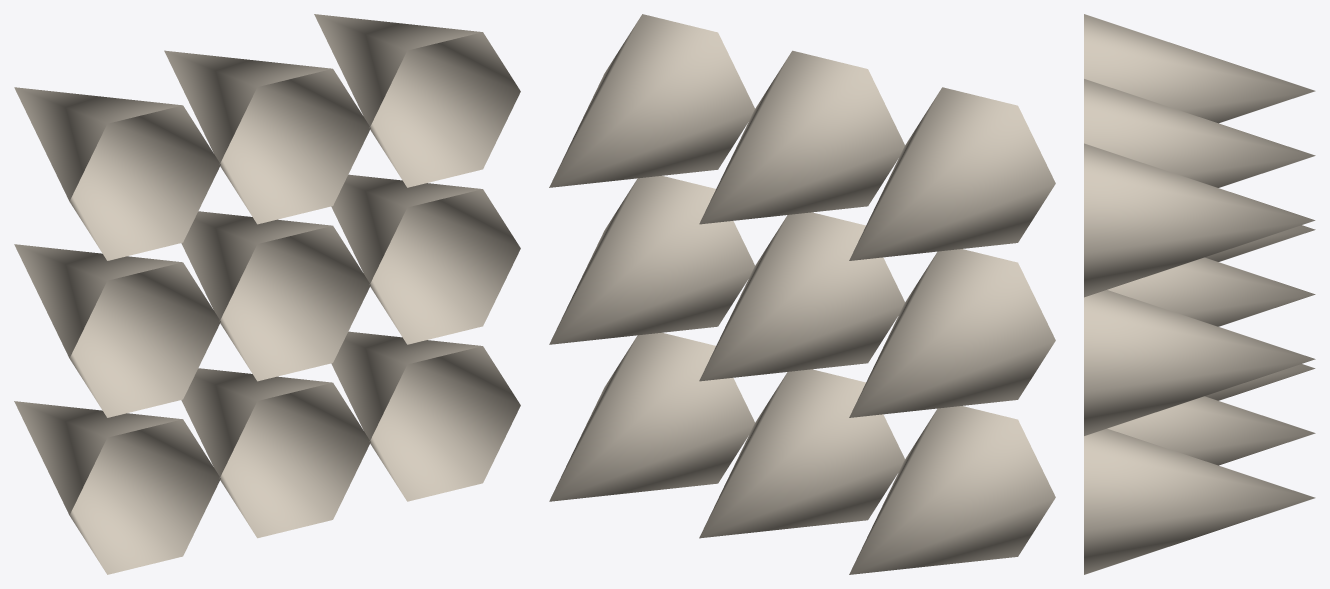
The model's file is Spikes.fbx.
3 renders of one model, left to right at view 1: azimuth 30°, elevation 25°; view 2: azimuth 150°, elevation 25°; view 3: azimuth 270°, elevation 25°, orthographic. The views are drawn at different scales.
Visible parts, largest first — view 1: Spikes; view 2: Spikes; view 3: Spikes.
Boxes of the visible parts, left/top/right/bottom form: Spikes: left=14, top=14, right=520, bottom=574; Spikes: left=549, top=14, right=1055, bottom=574; Spikes: left=1084, top=14, right=1315, bottom=574.
Bounding box in the file's own units: 99.33 × 94.87 × 50.
